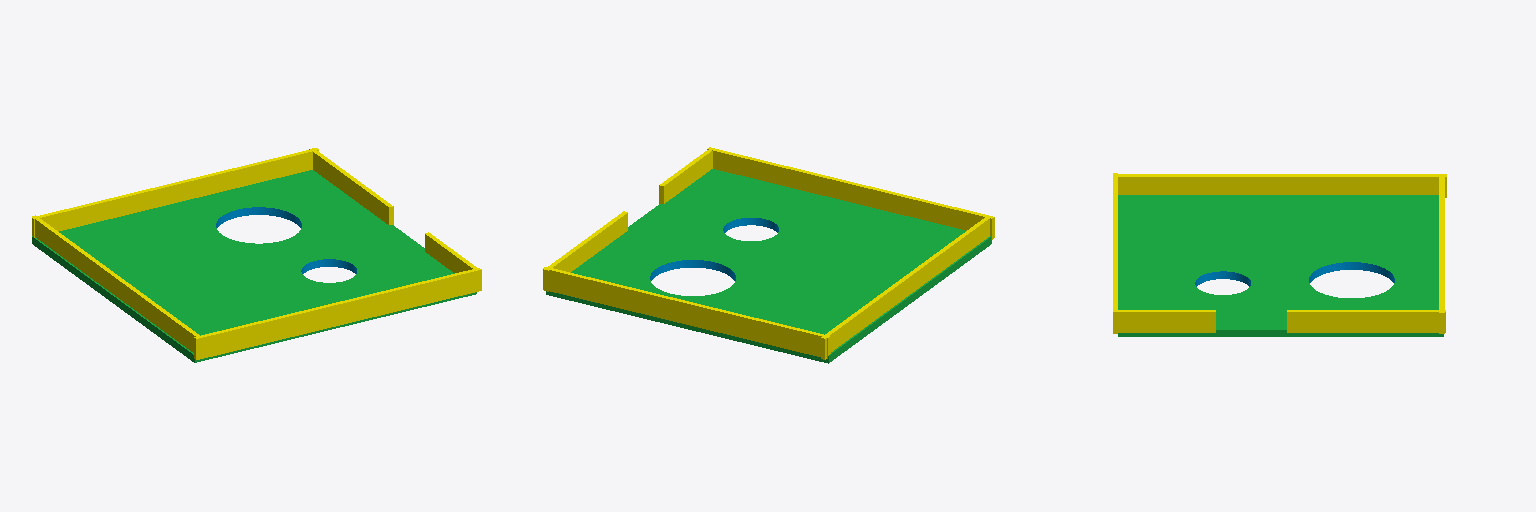
File: level1.obj
The picture shows the model from 3 angles: view 1: azimuth 30°, elevation 25°; view 2: azimuth 150°, elevation 25°; view 3: azimuth 270°, elevation 25°; orthographic projection.
Parts seen in each view (by area): view 1: Object.6, Object.4, Object.3, Object.2, Object.1, Object.5; view 2: Object.6, Object.3, Object.4, Object.2, Object.1, Object.5; view 3: Object.6, Object.2, Object.1, Object.5, Object.3, Object.4.
Part boxes in pixels (bbox=[...]): Object.6: bbox=[32, 170, 476, 362]; Object.4: bbox=[194, 268, 481, 359]; Object.3: bbox=[32, 148, 318, 237]; Object.2: bbox=[32, 215, 199, 352]; Object.1: bbox=[309, 148, 393, 224]; Object.5: bbox=[425, 232, 476, 272]; Object.6: bbox=[546, 169, 991, 363]; Object.3: bbox=[543, 267, 830, 358]; Object.4: bbox=[707, 147, 994, 239]; Object.2: bbox=[821, 217, 989, 359]; Object.1: bbox=[544, 211, 627, 291]; Object.5: bbox=[659, 150, 712, 203]; Object.6: bbox=[1118, 195, 1443, 336]; Object.2: bbox=[1118, 174, 1446, 197]; Object.1: bbox=[1287, 310, 1445, 332]; Object.5: bbox=[1118, 310, 1215, 332]; Object.3: bbox=[1439, 174, 1444, 333]; Object.4: bbox=[1113, 173, 1117, 333].
Size of the model in its own units: 9.89 by 0.856 by 10.